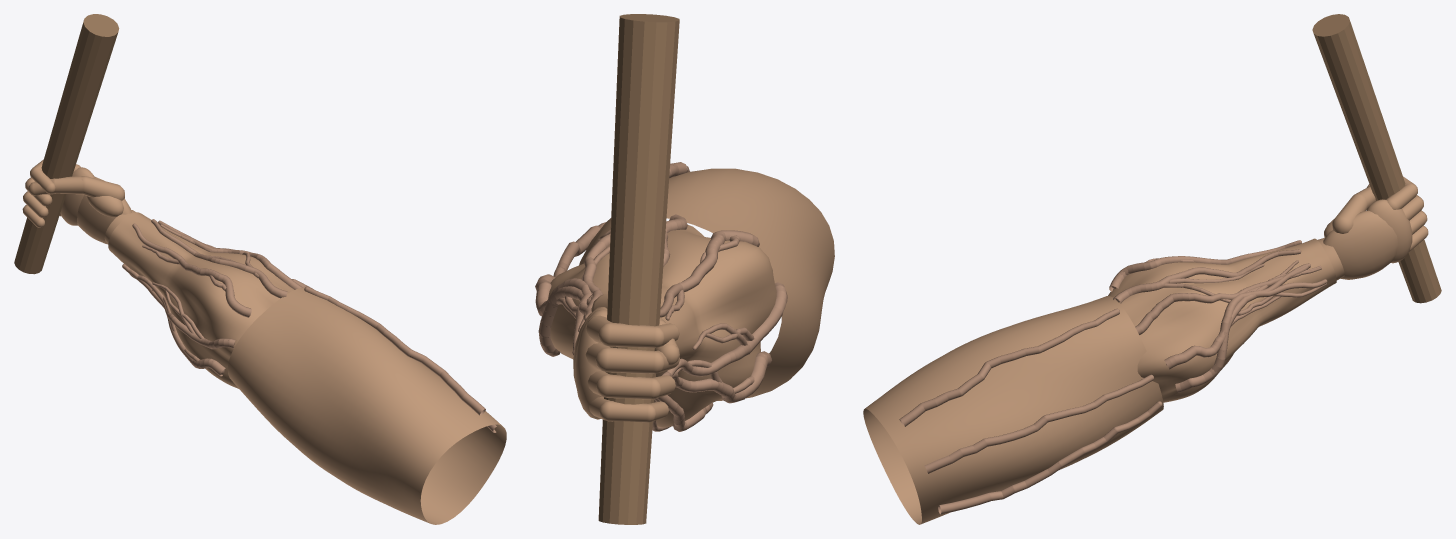
File: explorer_arm.glb
3 views of the same model, side by side, from view 1: azimuth 30°, elevation 25°; view 2: azimuth 150°, elevation 25°; view 3: azimuth 270°, elevation 25° (orthographic). The views are drawn at different scales.
Visible parts, largest first — view 1: Arm_UpperArm, Arm_Forearm, Preview_Handle, Arm_Veins, Arm_Hand; view 2: Preview_Handle, Arm_UpperArm, Arm_Forearm, Arm_Veins, Arm_Hand; view 3: Arm_UpperArm, Arm_Veins, Arm_Forearm, Preview_Handle, Arm_Hand.
Part boxes in pixels (x1,y1,x2,y2): Arm_UpperArm: (227,287,506,524); Arm_Forearm: (108,212,294,388); Preview_Handle: (14,14,119,274); Arm_Veins: (122,219,496,432); Arm_Hand: (22,159,135,244); Preview_Handle: (598,14,679,524); Arm_UpperArm: (579,168,834,400); Arm_Forearm: (548,225,776,427); Arm_Veins: (535,162,787,431); Arm_Hand: (573,294,679,422); Arm_UpperArm: (863,296,1163,524); Arm_Veins: (899,240,1327,514); Arm_Forearm: (1108,238,1336,402); Preview_Handle: (1312,14,1441,303); Arm_Hand: (1317,176,1428,280).
Bounding box in the file's own units: 0.3813 × 0.5661 × 0.7032.
